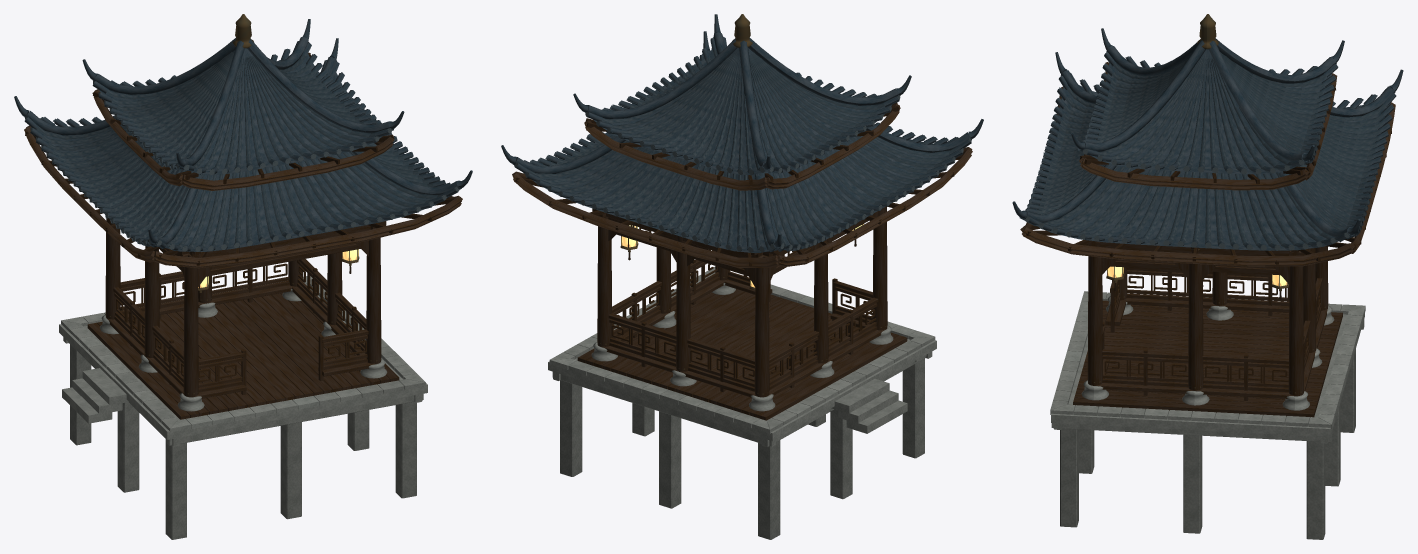
The model's file is pavilion_lod0.glb.
The picture shows the model from 3 angles, left to right: view 1: azimuth 30°, elevation 25°; view 2: azimuth 150°, elevation 25°; view 3: azimuth 270°, elevation 25°; orthographic projection. The views are drawn at different scales.
Visible parts, largest first — view 1: pavilion_L0__tile, pavilion_L0__timber, pavilion_L0__stone, pavilion_L0__tile_end, pavilion_L0__metal; view 2: pavilion_L0__tile, pavilion_L0__timber, pavilion_L0__stone, pavilion_L0__tile_end, pavilion_L0__metal; view 3: pavilion_L0__tile, pavilion_L0__timber, pavilion_L0__stone, pavilion_L0__tile_end, pavilion_L0__metal.
Boxes of the visible parts, x1=… form: pavilion_L0__tile: x1=14, y1=19, x2=472, y2=251; pavilion_L0__timber: x1=24, y1=52, x2=462, y2=419; pavilion_L0__stone: x1=59, y1=276, x2=427, y2=539; pavilion_L0__tile_end: x1=25, y1=80, x2=459, y2=251; pavilion_L0__metal: x1=106, y1=14, x2=380, y2=394; pavilion_L0__tile: x1=501, y1=14, x2=983, y2=253; pavilion_L0__timber: x1=512, y1=48, x2=972, y2=420; pavilion_L0__stone: x1=548, y1=267, x2=936, y2=539; pavilion_L0__tile_end: x1=514, y1=95, x2=971, y2=252; pavilion_L0__metal: x1=597, y1=14, x2=886, y2=394; pavilion_L0__tile: x1=1012, y1=28, x2=1403, y2=250; pavilion_L0__timber: x1=1020, y1=62, x2=1395, y2=417; pavilion_L0__stone: x1=1050, y1=291, x2=1365, y2=539; pavilion_L0__tile_end: x1=1024, y1=63, x2=1394, y2=250; pavilion_L0__metal: x1=1089, y1=14, x2=1328, y2=393.
Bounding box in the file's own units: 8.36 × 10.67 × 8.19.
6 materials, 6 textured.
